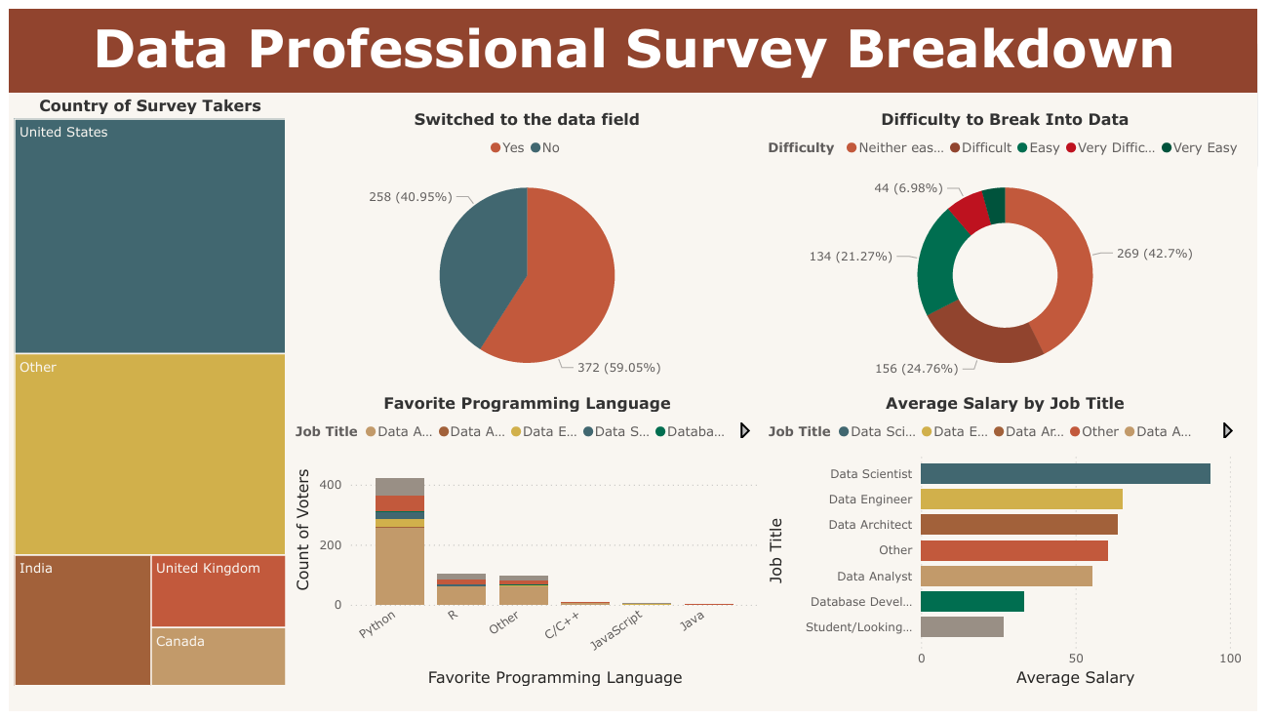

What the dashboard file says about the page in this screenshot:
{"tool":"powerbi","page":{"name":"Details","canvas":[1280,720],"ordinal":1},"visuals":[{"type":"textbox","box":[0,0,1280,86],"z":0},{"type":"pieChart","title":"Switched to the data field","fields":{"Category":["Data Professional Survey.Q2 - Did you switch careers into Data?"],"Y":["CountNonNull(Data Professional Survey.Unique ID)"]},"box":[288.3,101.7,485,291.7],"z":1000},{"type":"barChart","title":" Average Salary by Job Title ","fields":{"Category":["Data Professional Survey.Q1 - Which Title Best Fits your Current Role?.1"],"Y":["Avg(Data Professional Survey.Average Salary)"],"Series":["Data Professional Survey.Q1 - Which Title Best Fits your Current Role?.1"]},"box":[773.3,393.3,495,305],"z":2000},{"type":"columnChart","title":"Favorite Programming Language","fields":{"Category":["Data Professional Survey.Q5 - Favorite Programming Language.1"],"Y":["CountNonNull(Data Professional Survey.Unique ID)"],"Series":["Data Professional Survey.Q1 - Which Title Best Fits your Current Role?.1"]},"box":[288.3,393.3,485,305],"z":3000},{"type":"donutChart","title":"Difficulty to Break Into Data","fields":{"Category":["Data Professional Survey.Q7 - How difficult was it for you to break into Data?"],"Y":["CountNonNull(Data Professional Survey.Q7 - How difficult was it for you to break into Data?)"]},"box":[773.3,101.7,495,291.7],"z":4000},{"type":"treemap","title":"Country of Survey Takers","fields":{"Group":["Data Professional Survey.Q11 - Which Country do you live in?.1"],"Values":["CountNonNull(Data Professional Survey.Q11 - Which Country do you live in?.1)"]},"box":[0,87.5,287.5,610],"z":5001}]}

Visuals, with their boxes in screenshot pixels (x1, y1, x2, y2), scaled from the page's 1280x720 canvas onto the 1269x720 screenshot:
textbox: box(0, 0, 1268, 86)
"Switched to the data field" pieChart: box(286, 102, 767, 393)
" Average Salary by Job Title " barChart: box(767, 393, 1257, 698)
"Favorite Programming Language" columnChart: box(286, 393, 767, 698)
"Difficulty to Break Into Data" donutChart: box(767, 102, 1257, 393)
"Country of Survey Takers" treemap: box(0, 88, 285, 698)
